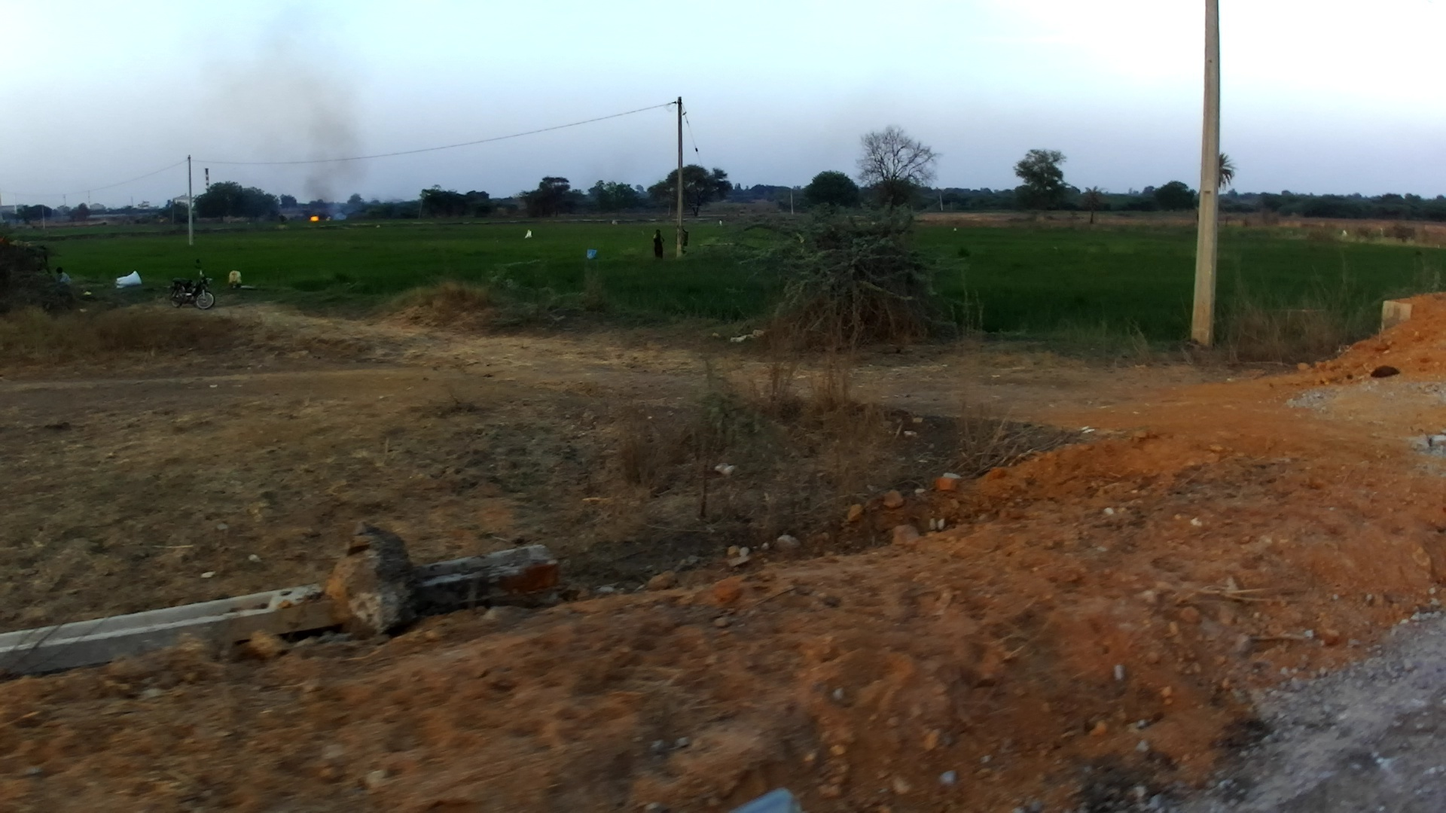motorcycle: (166, 257, 217, 311)
person: (652, 228, 666, 259), (55, 266, 72, 286)
